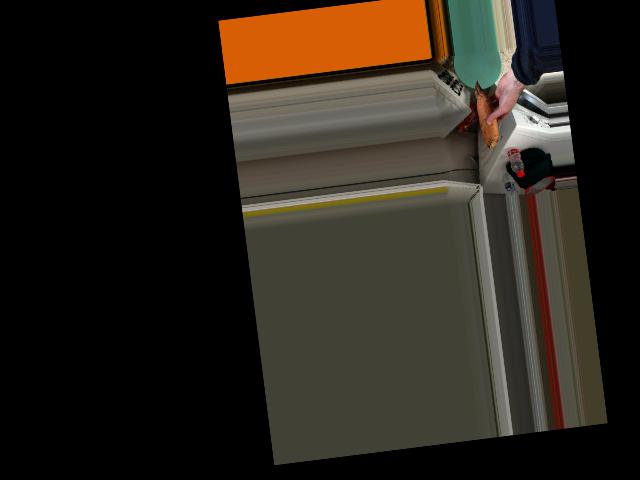sweet_potato: (474, 83, 502, 143)
